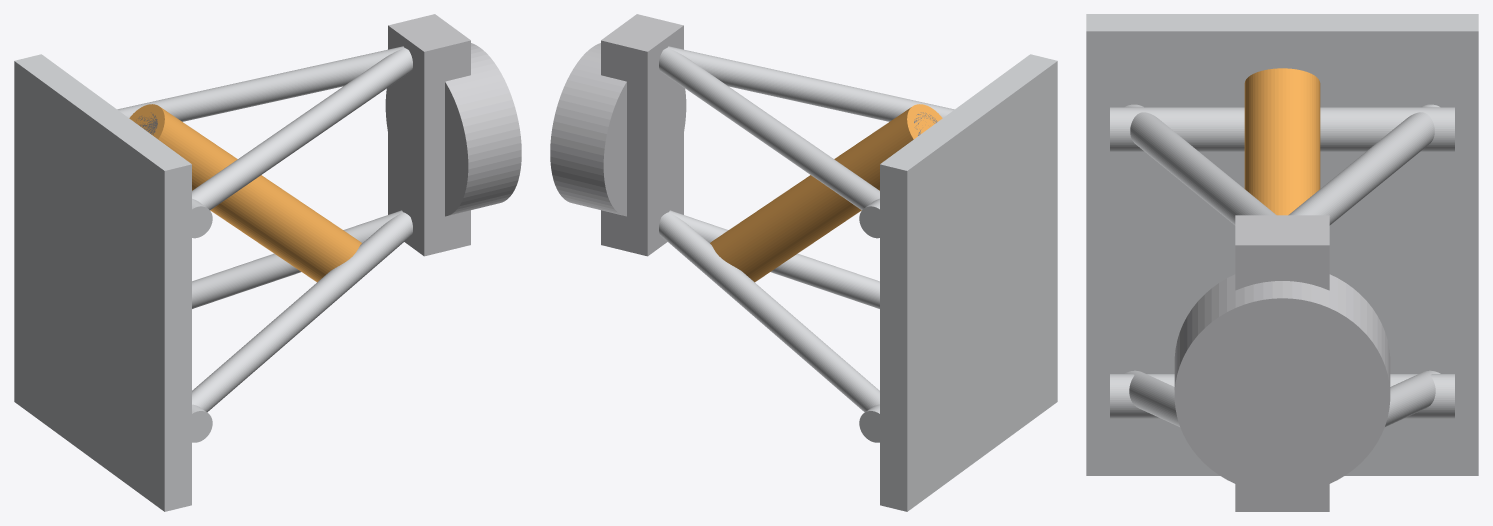
Rendered from rover17_suspension_arm_s_susp_up.glb.
3 renders of one model, left to right at view 1: azimuth 30°, elevation 25°; view 2: azimuth 150°, elevation 25°; view 3: azimuth 270°, elevation 25°, orthographic. The views are drawn at different scales.
Parts seen in each view (by area): view 1: mount_plate, arm_upright, arm_upper, arm_lower, spring; view 2: mount_plate, arm_upright, arm_upper, arm_lower, spring; view 3: mount_plate, arm_upright, arm_upper, spring, arm_lower.
Boxes of the visible parts, bbox=[...] form: mount_plate: bbox=[14, 54, 191, 511]; arm_upright: bbox=[385, 14, 521, 256]; arm_upper: bbox=[117, 46, 412, 238]; arm_lower: bbox=[192, 210, 412, 442]; spring: bbox=[129, 104, 361, 282]; mount_plate: bbox=[880, 54, 1057, 511]; arm_upright: bbox=[550, 14, 686, 256]; arm_upper: bbox=[659, 46, 954, 238]; arm_lower: bbox=[659, 210, 879, 442]; spring: bbox=[710, 104, 942, 282]; mount_plate: bbox=[1086, 14, 1478, 475]; arm_upright: bbox=[1174, 215, 1390, 511]; arm_upper: bbox=[1110, 104, 1454, 225]; spring: bbox=[1244, 68, 1320, 215]; arm_lower: bbox=[1110, 370, 1454, 426].
Size of the model in its own units: 0.3 by 0.25 by 0.2.
